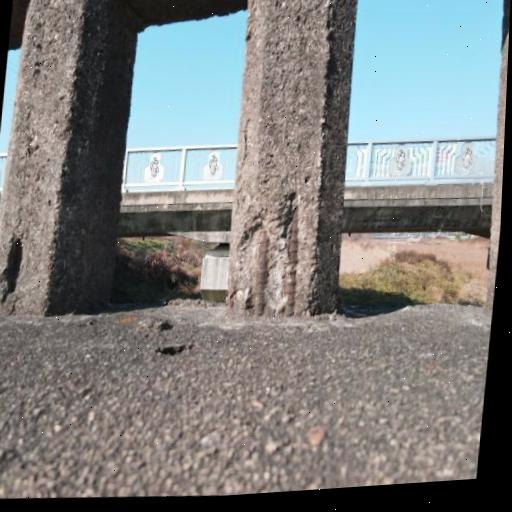exposed_rebar: (283, 211, 299, 317), (253, 228, 269, 317)
spalling: (239, 190, 298, 315)
